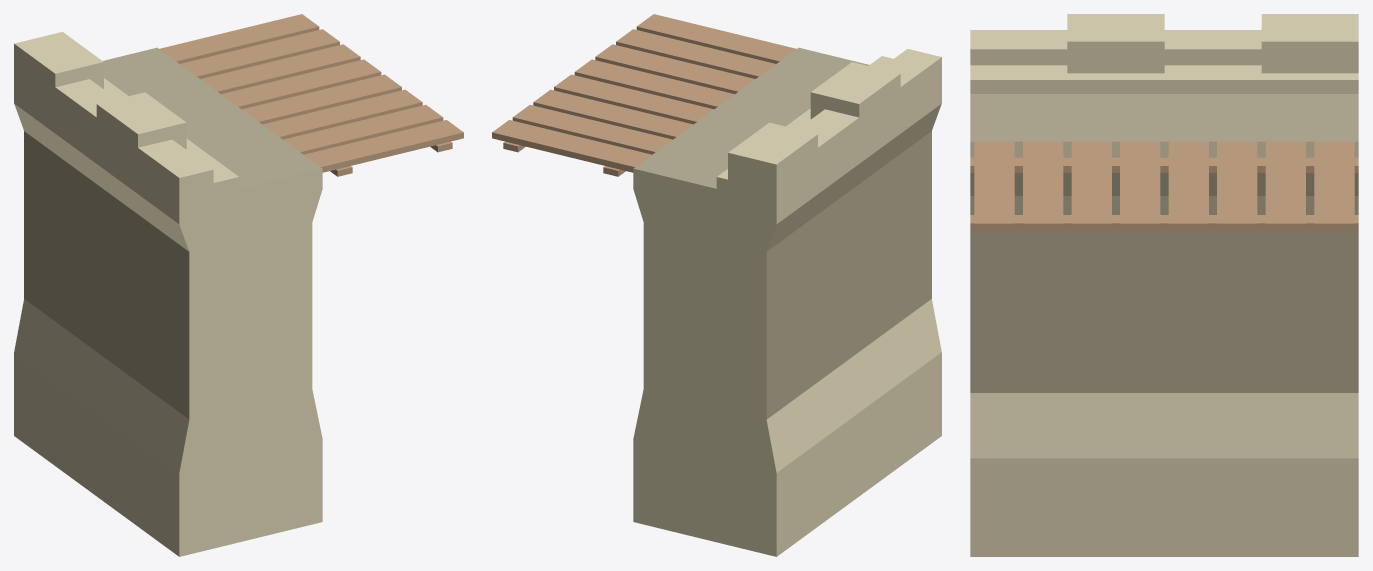
File: wallNarrowWood.fbx
3 renders of one model, left to right at view 1: azimuth 30°, elevation 25°; view 2: azimuth 150°, elevation 25°; view 3: azimuth 270°, elevation 25°, orthographic. The views are drawn at different scales.
Visible parts, largest first — view 1: wallNarrowWood, bridge 5; view 2: wallNarrowWood, bridge 5; view 3: wallNarrowWood, bridge 5.
Boxes of the visible parts, x1,y1,x2,y2 form: wallNarrowWood: (14,32,322,556); bridge 5: (159,14,463,176); wallNarrowWood: (633,47,941,556); bridge 5: (492,14,796,176); wallNarrowWood: (970,14,1358,556); bridge 5: (970,141,1358,230).
Size of the model in its own units: 10 by 13.1 by 10.
